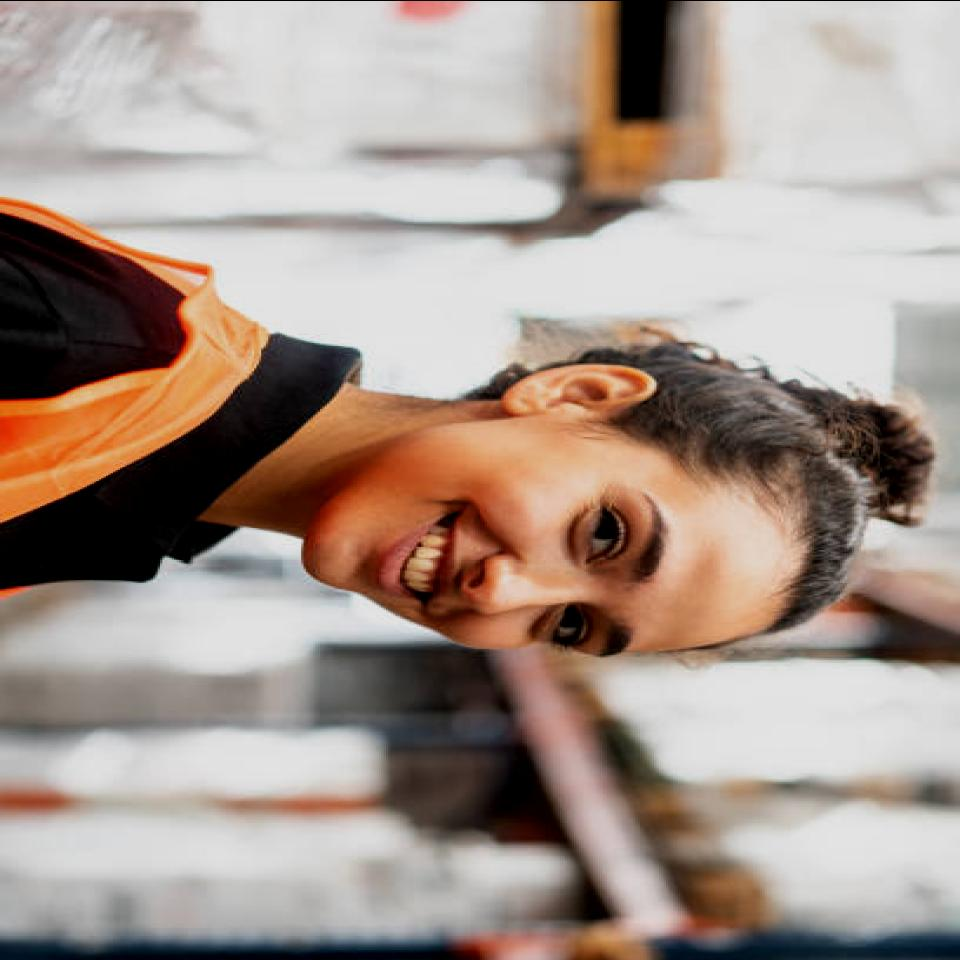Happiness: (326, 433, 694, 657)
